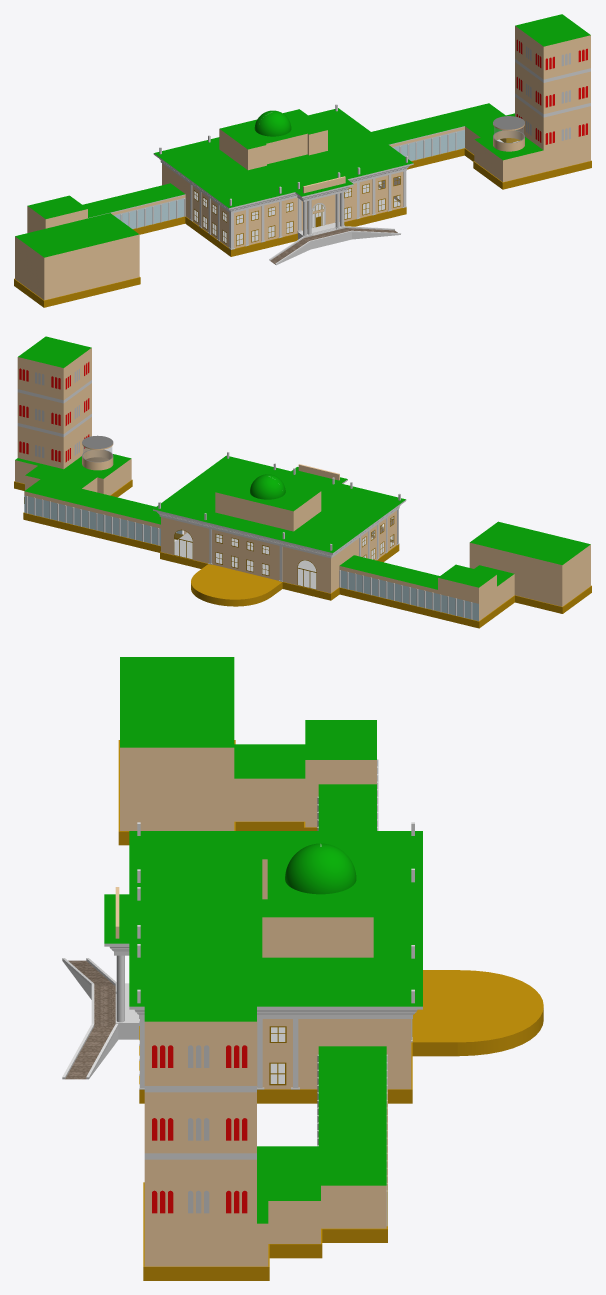
Rendered from rumyantsev.glb.
3 views of the same model, one above another, from view 1: azimuth 30°, elevation 25°; view 2: azimuth 150°, elevation 25°; view 3: azimuth 270°, elevation 25° (orthographic). The views are drawn at different scales.
Visible parts, largest first — view 1: Geom3D (×10), Geom3D_; view 2: Geom3D (×9), Geom3D_; view 3: Geom3D (×6), Geom3D_.
Boxes of the visible parts, x1,y1,x2,y2 form: Geom3D (×10): (14, 14, 591, 307); Geom3D_: (88, 59, 590, 265); Geom3D (×9): (14, 336, 591, 628); Geom3D_: (17, 380, 472, 619); Geom3D (×6): (65, 657, 543, 1280); Geom3D_: (62, 759, 422, 1226).
Bounding box in the file's own units: 140 × 32 × 53.97.
10 materials, 2 textured.
